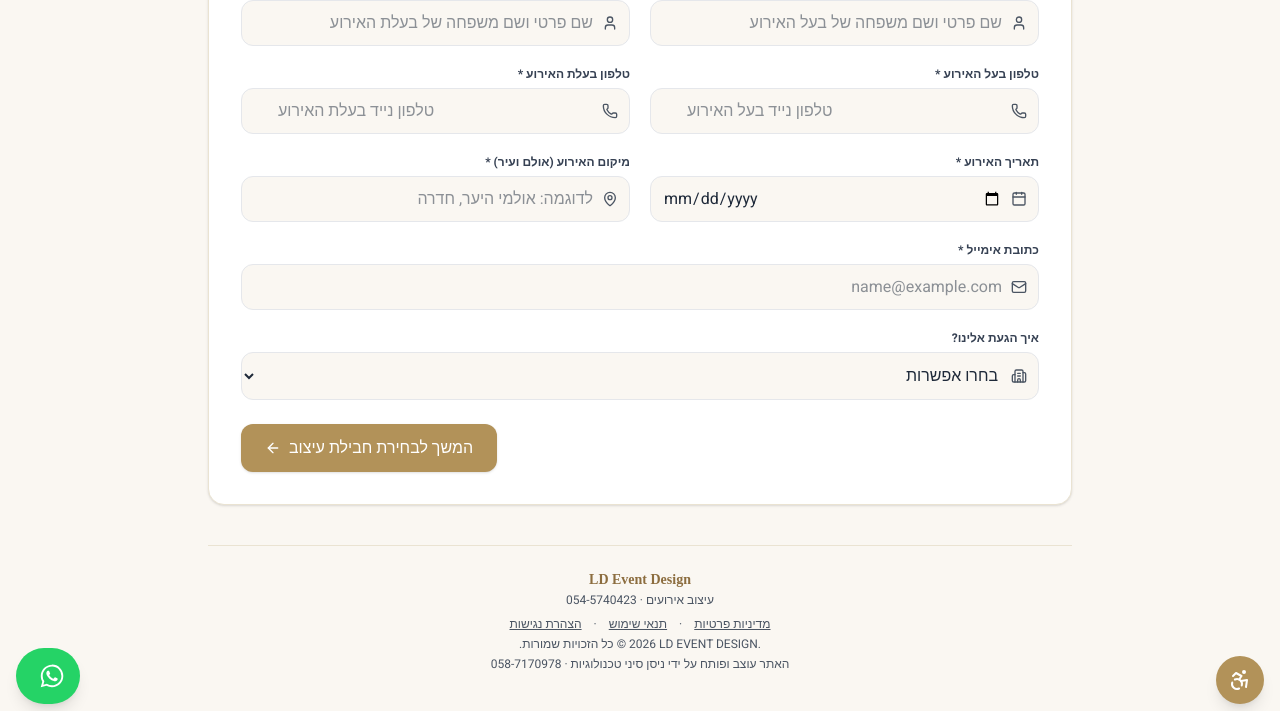
Order wizard — step 1 › shows validation errors for empty required fields
(page scrolled)
Click the button "המשך לבחירת חבילת עיצוב" at (369, 448), box [241, 424, 497, 472]
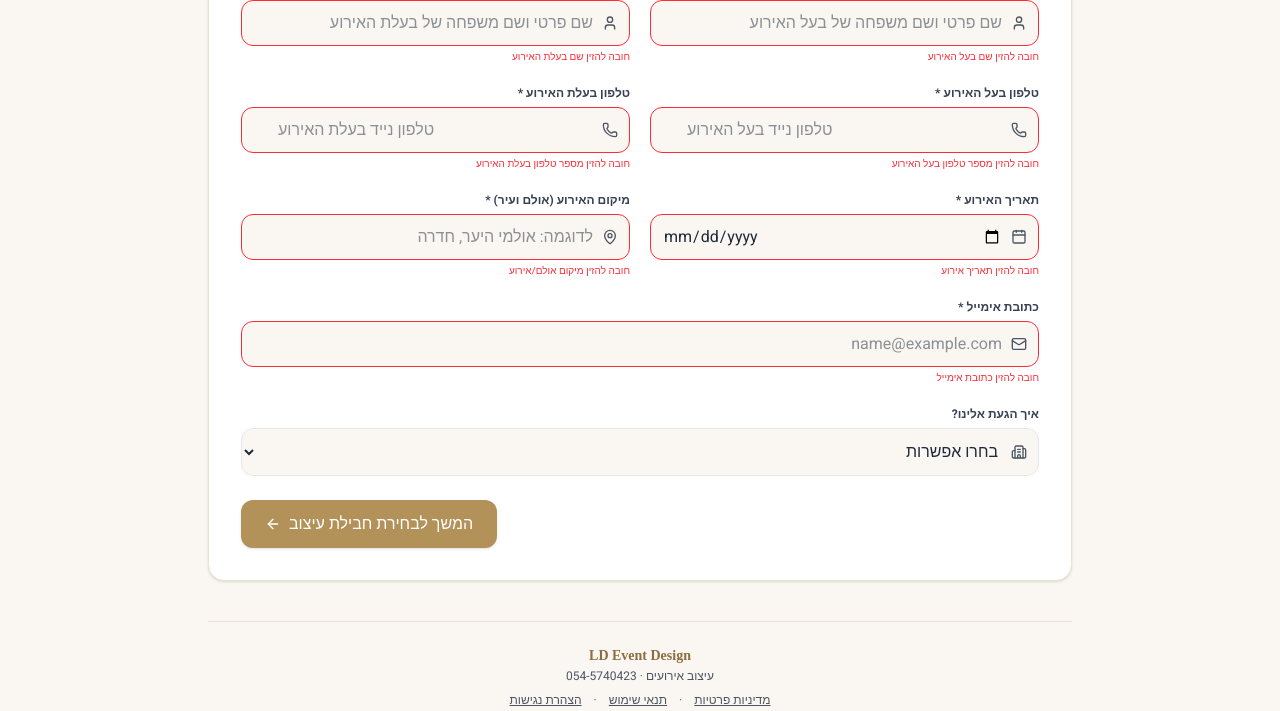
Check: the text "חובה להזין שם בעל האירוע" is shown, box [928, 50, 1039, 64]
Check: the text "חובה להזין כתובת אימייל" is shown, box [936, 370, 1039, 384]
